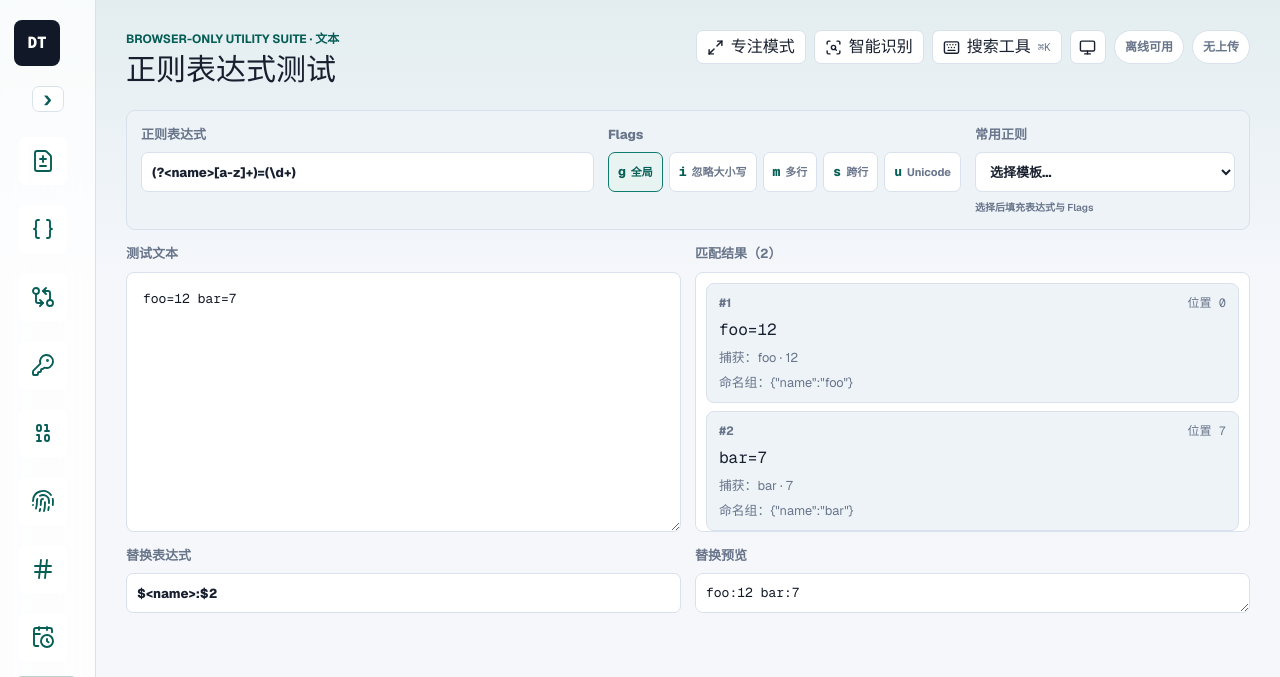
workbench keyboard and theme interactions › applies a compact regex preset without replacing test text
Replace the text in the text box labelled "测试文本" with "联系 dev@example.com 获取帮助" at (404, 402), box [126,272,681,532]
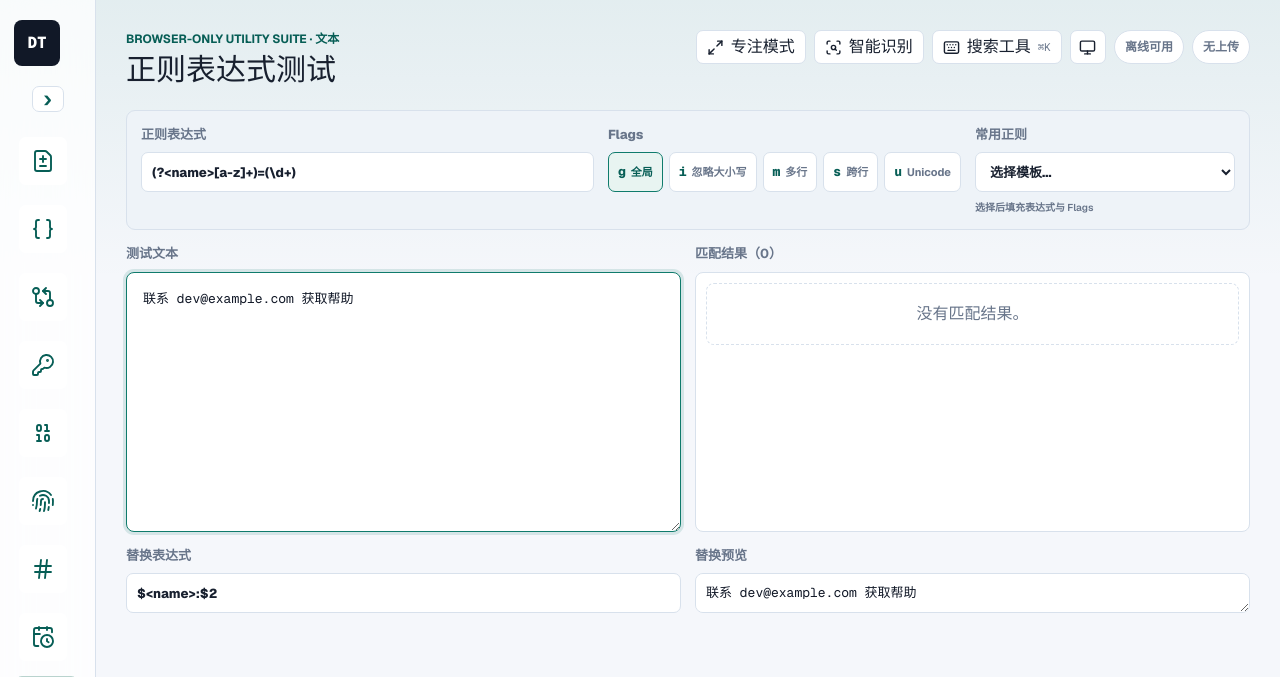
Select "邮箱地址" in the dropdown labelled "常用正则" at (1105, 172), box [975,152,1235,192]
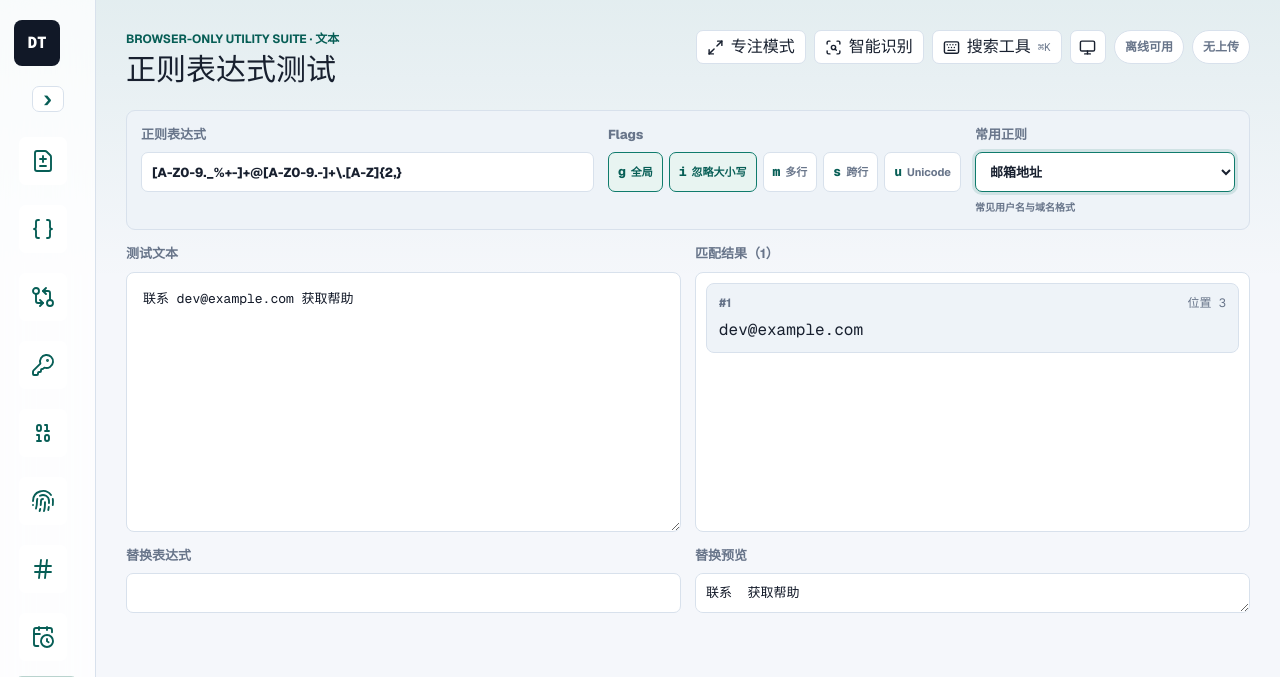
Check: the field labelled "正则表达式" holds "[A-Z0-9._%+-]+@[A-Z0-9.-]+\\.[A-Z]{2,}", box [141,152,594,192]
Check: the field labelled "替换表达式" is empty, box [126,573,681,613]
